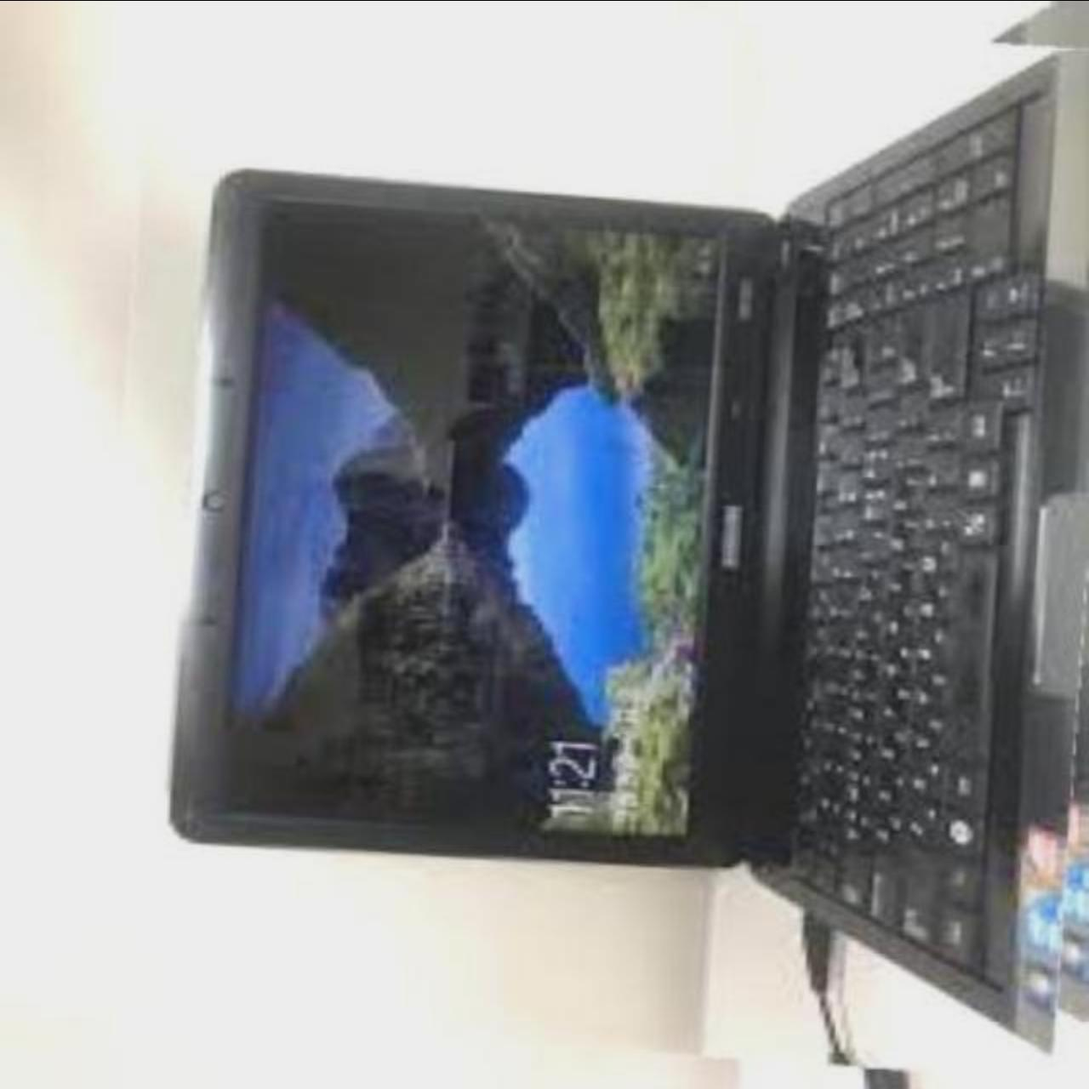laptop: (100, 2, 1088, 1063)
